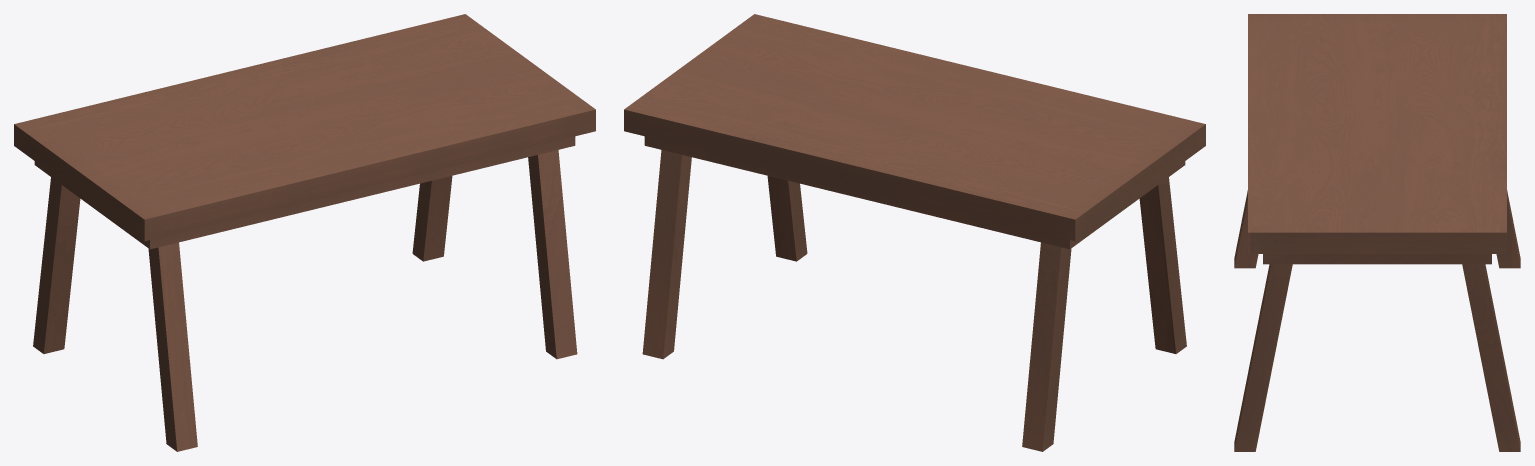
The model's file is table.fbx.
3 views of the same model, side by side, from view 1: azimuth 30°, elevation 25°; view 2: azimuth 150°, elevation 25°; view 3: azimuth 270°, elevation 25° (orthographic).
Parts seen in each view (by area): view 1: Cube.001; view 2: Cube.001; view 3: Cube.001.
Boxes of the visible parts, box(x1,y1,x2,y2) form: Cube.001: box(14, 14, 595, 451); Cube.001: box(624, 14, 1205, 451); Cube.001: box(1234, 14, 1520, 451).
Size of the model in its own units: 399 by 197 by 221.
